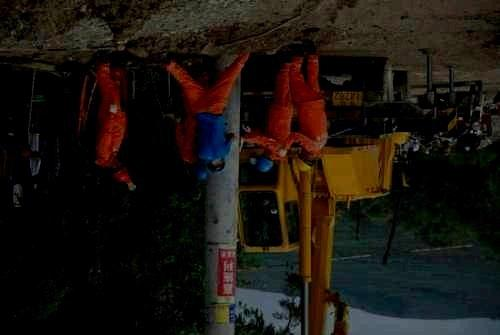helmet: (106, 157, 129, 187), (254, 147, 275, 173), (295, 150, 315, 172), (206, 157, 227, 177)
